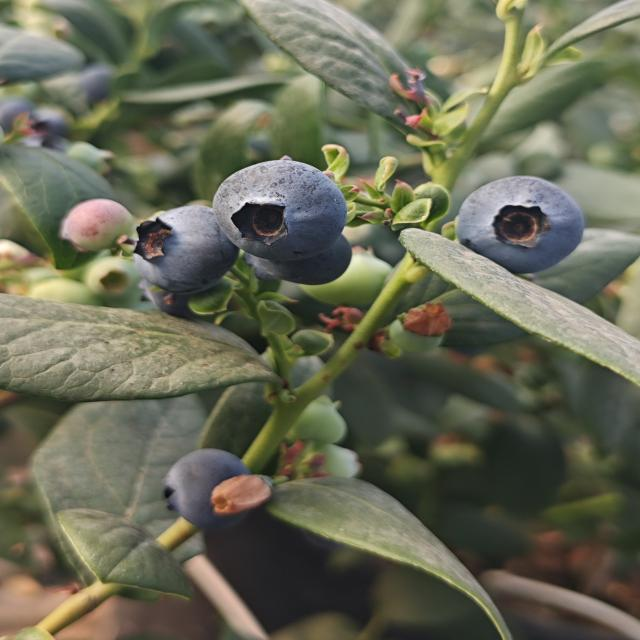ripe: (210, 155, 353, 279), (453, 174, 587, 276), (129, 203, 240, 298), (158, 446, 276, 532), (251, 214, 359, 290), (0, 85, 77, 145)
